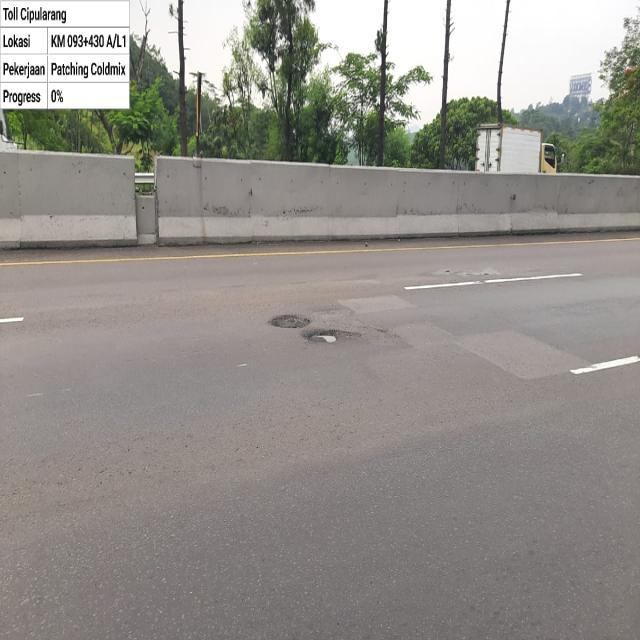Buraco: (299, 327, 363, 346), (268, 314, 314, 329)
